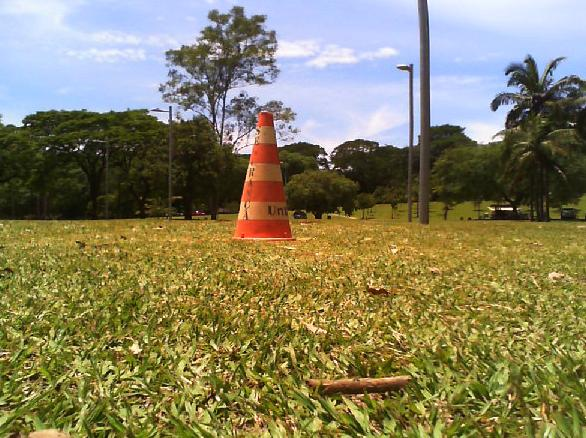0 cone: (234, 113, 294, 241)
